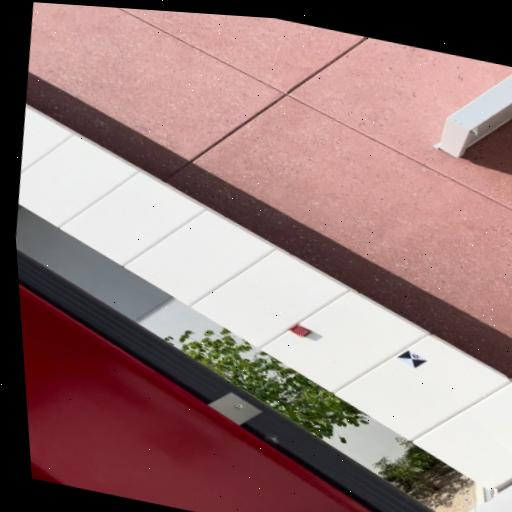target6: (396, 350, 427, 369)
